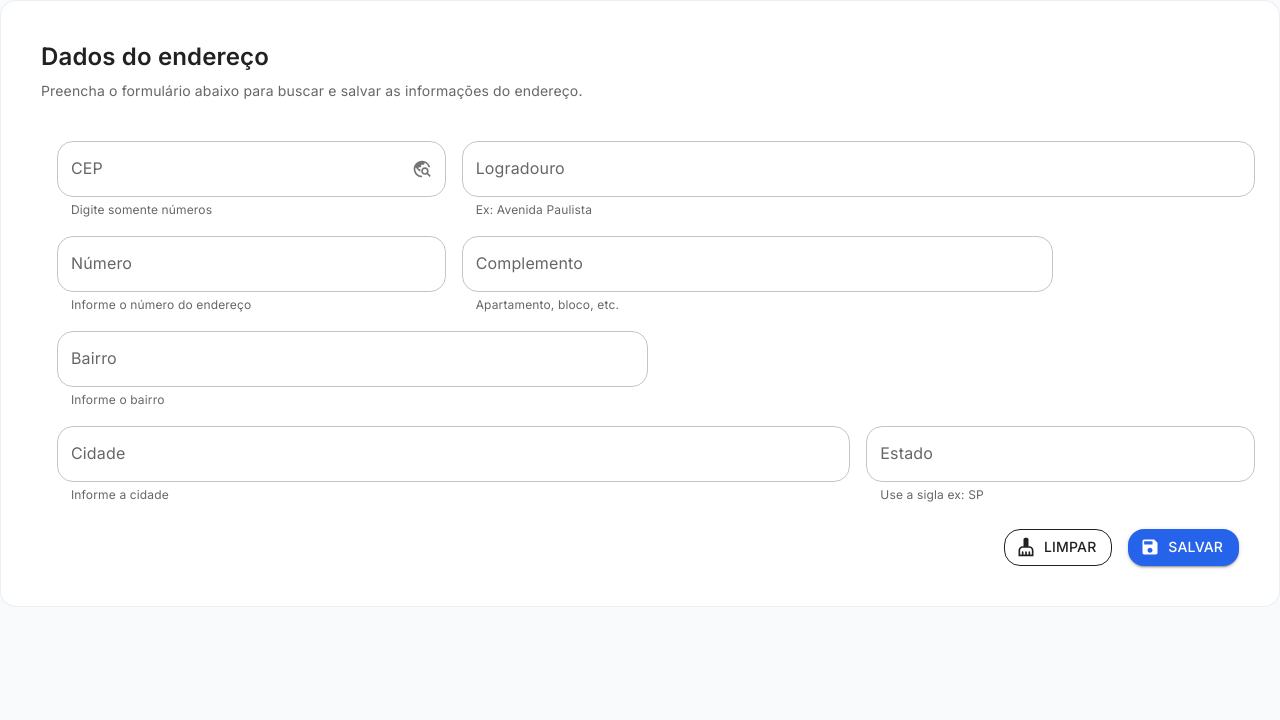
Scenario: CepForm › valida o CEP e limpa os campos
Step 1. Type "1234" into the field labelled "CEP" → (230, 169), box [57,141,404,197]
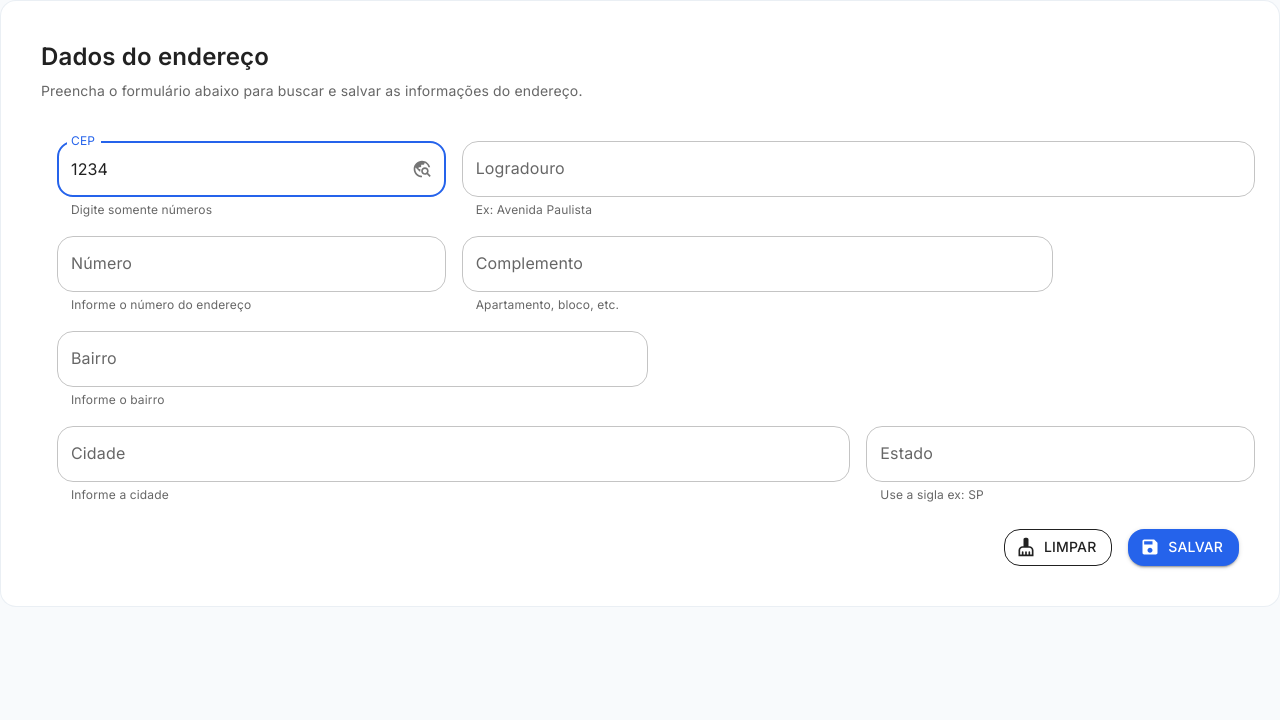
Step 2. Press Tab
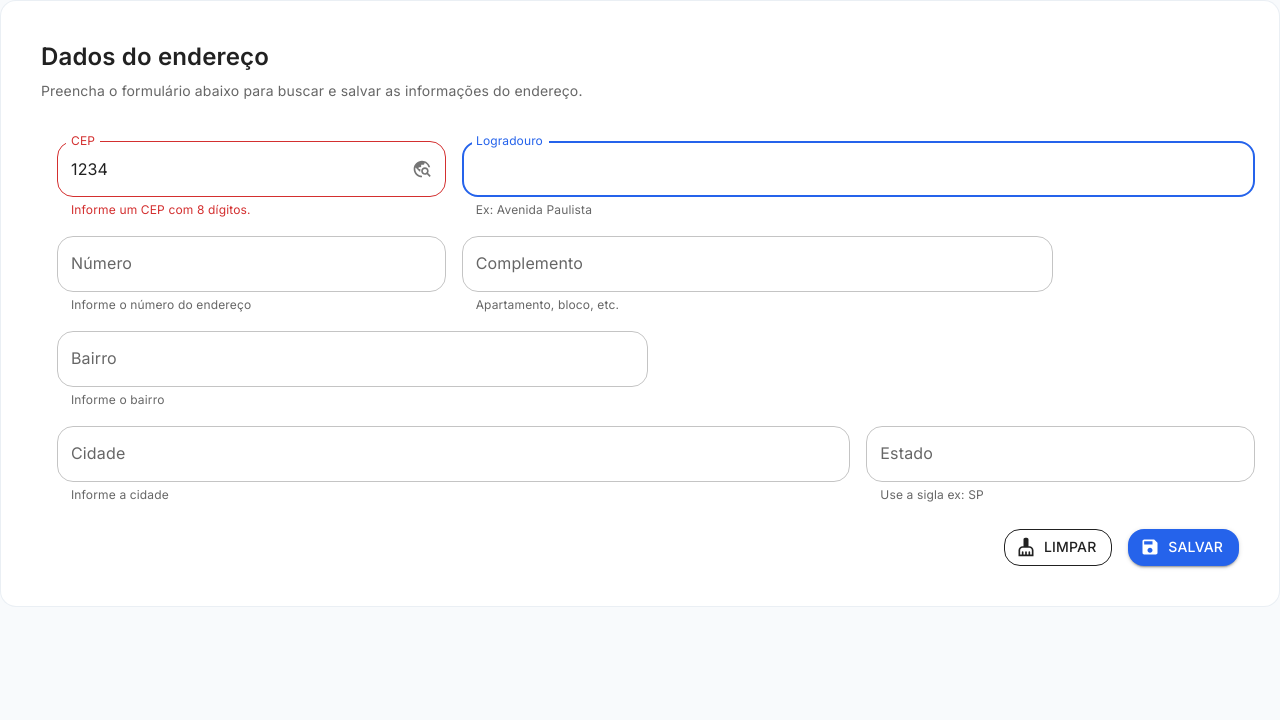
Expected: the text "Informe um CEP com 8 dígitos." is shown, [71,202,251,217]
Step 3. Click the button "Limpar" → (1058, 547), box [1004,529,1112,566]
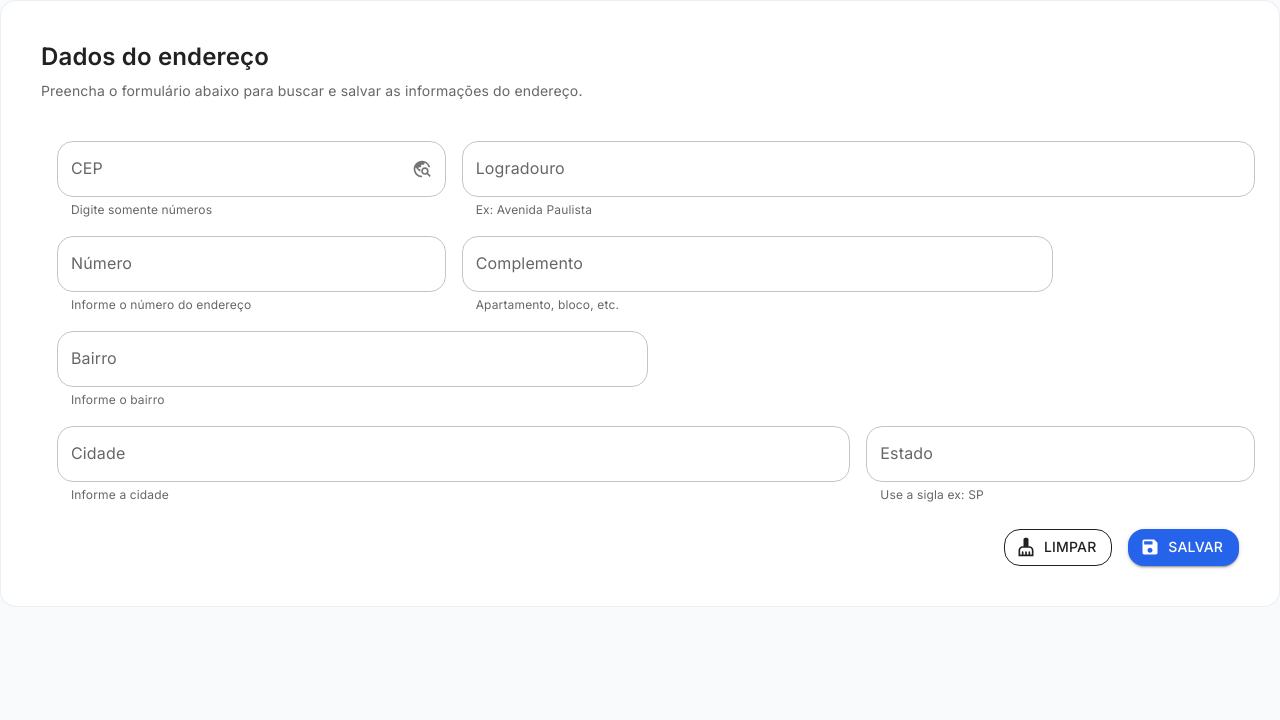
Expected: the field labelled "CEP" is empty, [57,141,404,197]
